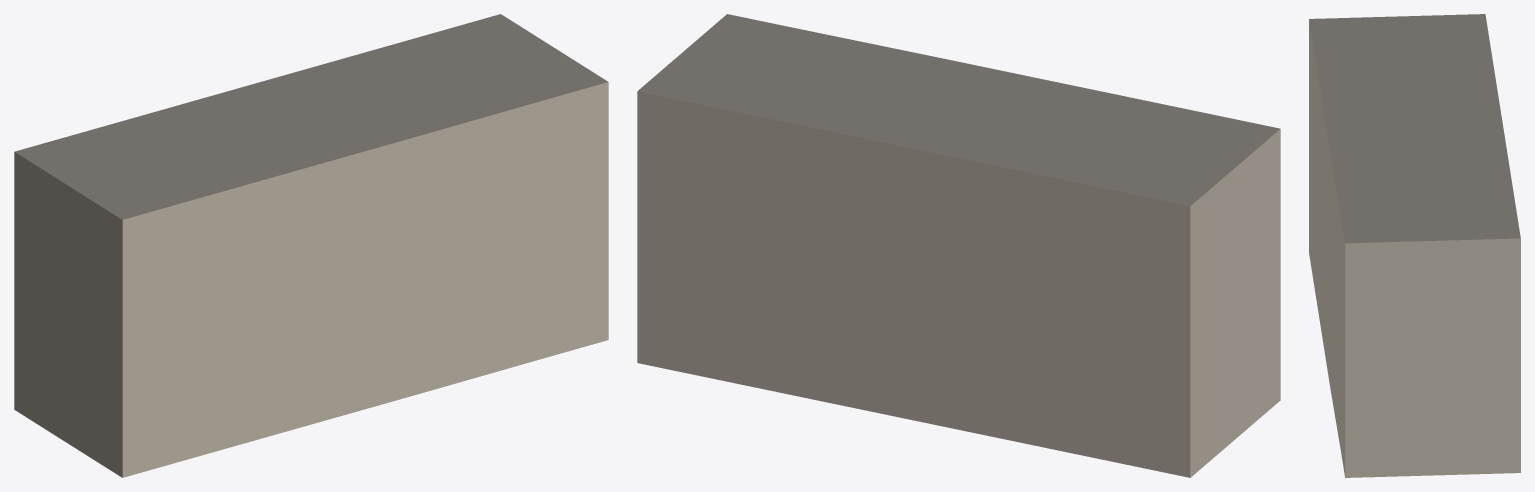
The picture shows the model from 3 angles, left to right: view 1: azimuth 30°, elevation 25°; view 2: azimuth 150°, elevation 25°; view 3: azimuth 270°, elevation 25°; orthographic projection. The views are drawn at different scales.
Visible parts, largest first — view 1: HP-w438969157; view 2: HP-w438969157; view 3: HP-w438969157.
Boxes of the visible parts, x1=… form: HP-w438969157: x1=14, y1=14, x2=608, y2=477; HP-w438969157: x1=637, y1=14, x2=1280, y2=477; HP-w438969157: x1=1309, y1=14, x2=1520, y2=477.
Size of the model in its own units: 37.75 by 18 by 14.72.
